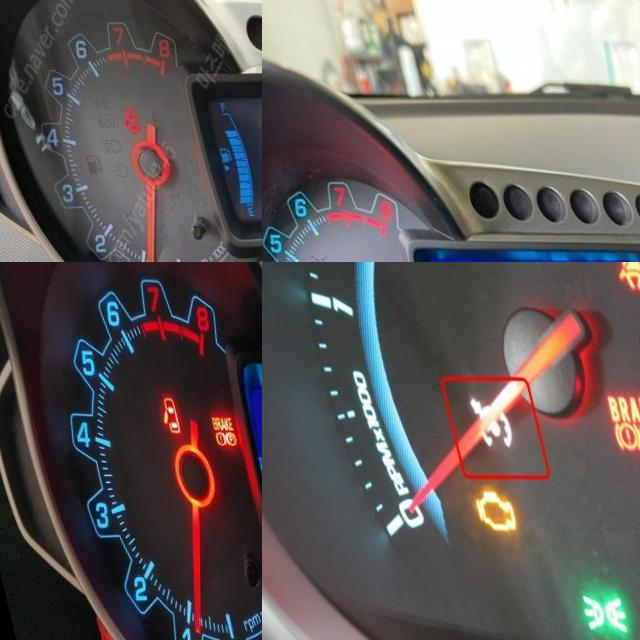SideLamp: (556, 595, 604, 633)
